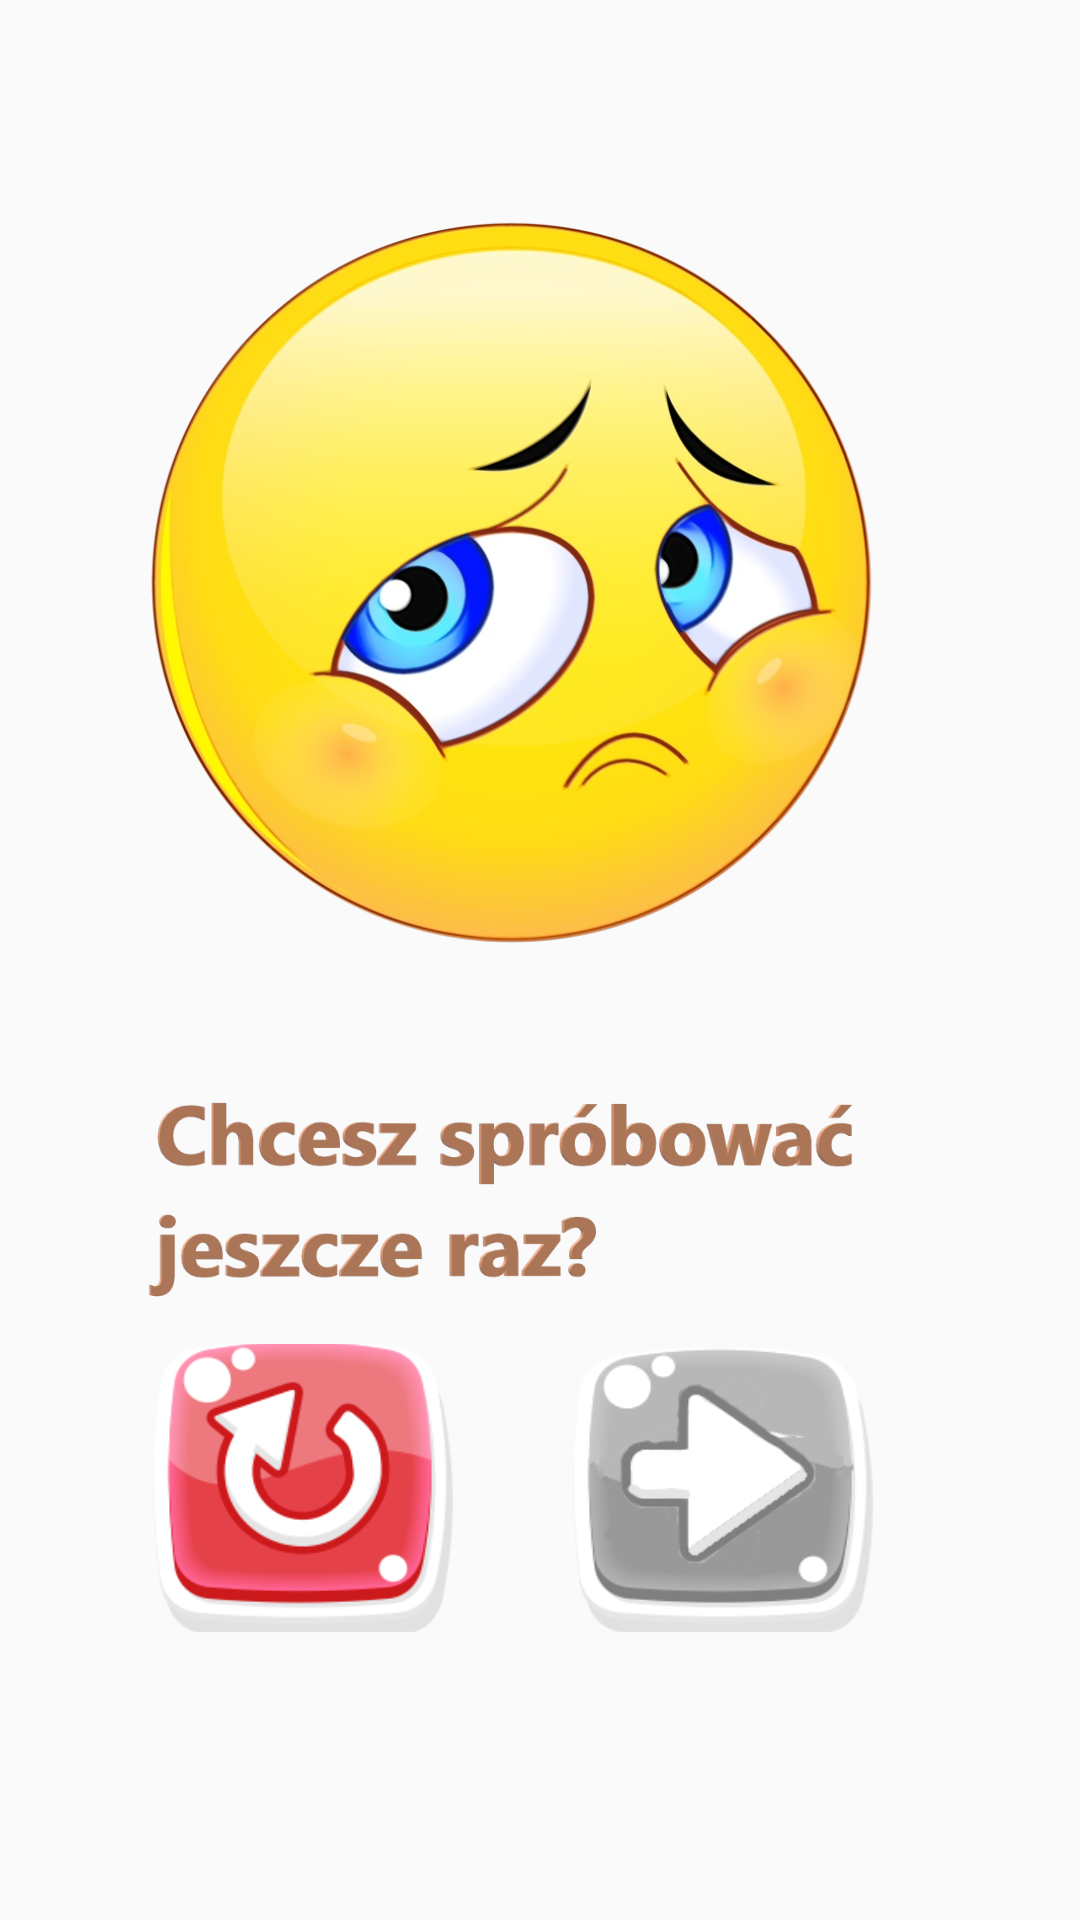

Screen size 1080px×1920px. Icon name, then its box in pixels as (x1, y1, x2, y2):
next: (588, 1350, 871, 1632)
